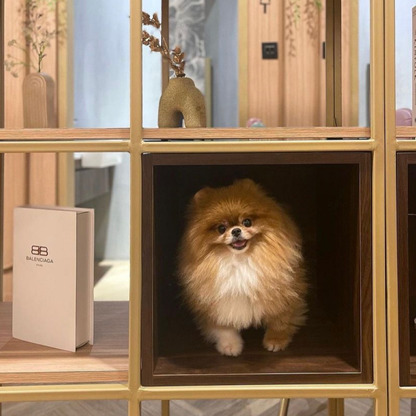Pomeranian: (168, 181, 319, 365)
